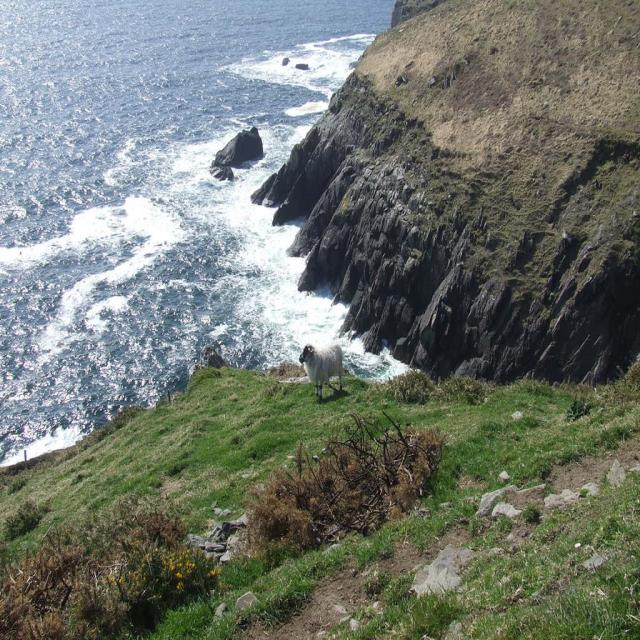Sheep: (299, 345, 343, 401)
